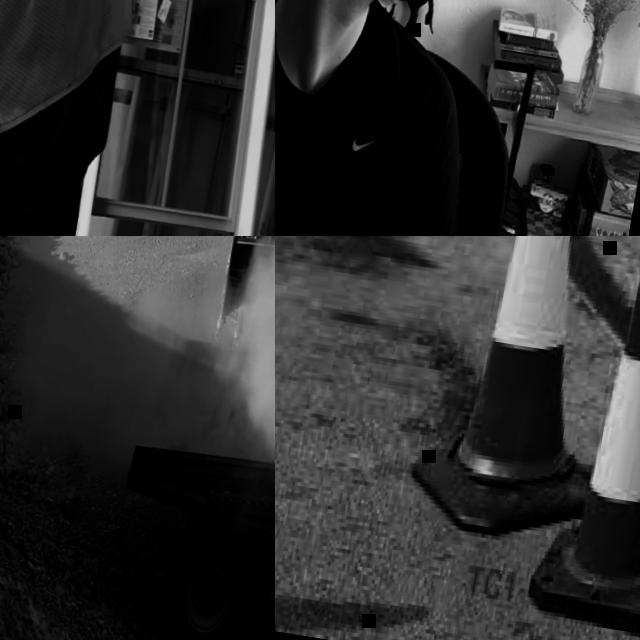NO-Safety Vest: (275, 0, 432, 236)
Person: (275, 0, 549, 236), (0, 0, 182, 236)
Safety Cone: (407, 236, 640, 551), (528, 252, 640, 638)
Safety Vest: (0, 0, 189, 180)
machinery: (93, 280, 275, 640), (210, 236, 275, 369)
